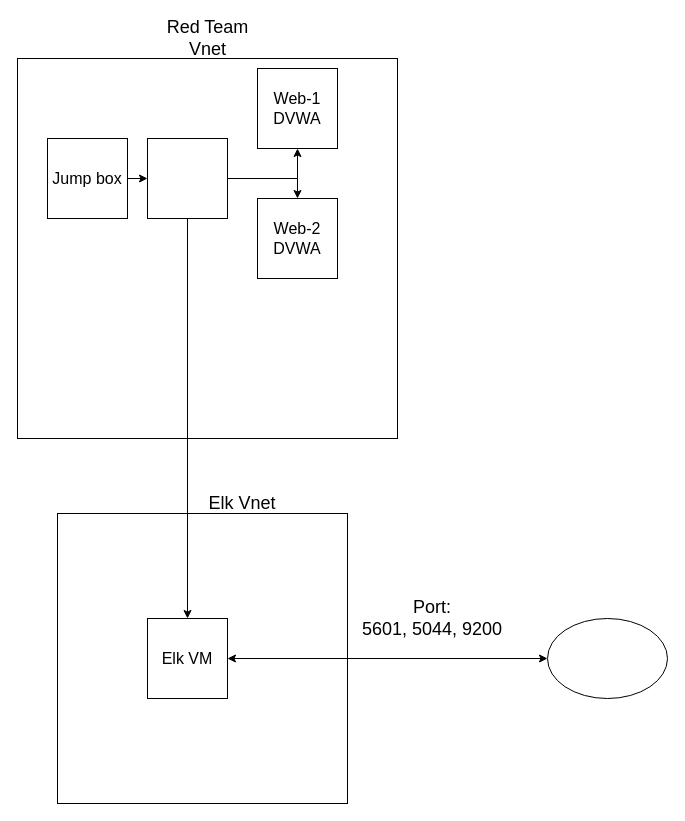
Image size: 685x821. Some labels were removed from this diagram. The centre of each missing label's shape, as x and y in pixels:
"Ansible" belongs at pixel 187 178.
"Internet" belongs at pixel 607 658.
